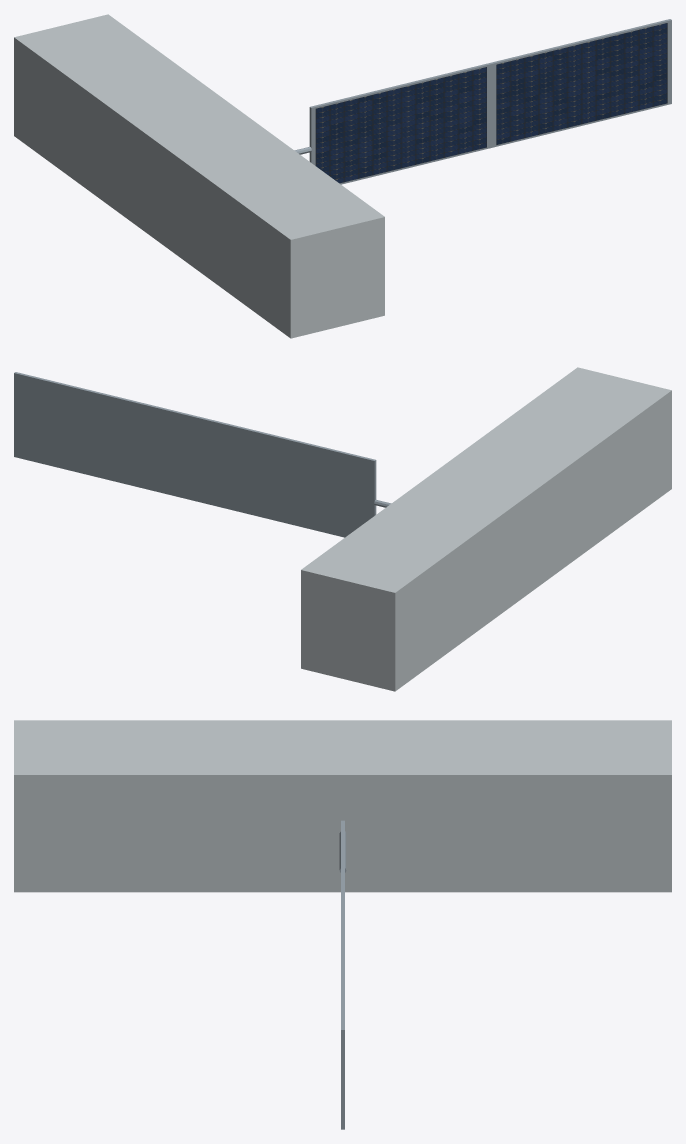
The model's file is ref-block-5d-9415.glb.
3 views of the same model, one above another, from view 1: azimuth 30°, elevation 25°; view 2: azimuth 150°, elevation 25°; view 3: azimuth 270°, elevation 25° (orthographic). The views are drawn at different scales.
Visible parts, largest first — view 1: Spacecraft body, Photovoltaic laminates (×2), Array frame (×2); view 2: Spacecraft body, Array frame (×2); view 3: Spacecraft body, Array frame.
Part boxes in pixels (<box>): Spacecraft body: <box>14,14,384,338</box>; Photovoltaic laminates (×2): <box>315,23,667,183</box>; Array frame (×2): <box>309,19,671,184</box>; Spacecraft body: <box>301,367,671,691</box>; Array frame (×2): <box>14,372,376,537</box>; Spacecraft body: <box>14,720,671,892</box>; Array frame: <box>341,925,344,1129</box>.
Size of the model in its own units: 6.6 by 1.2 by 6.1.
3 materials, 1 textured.
